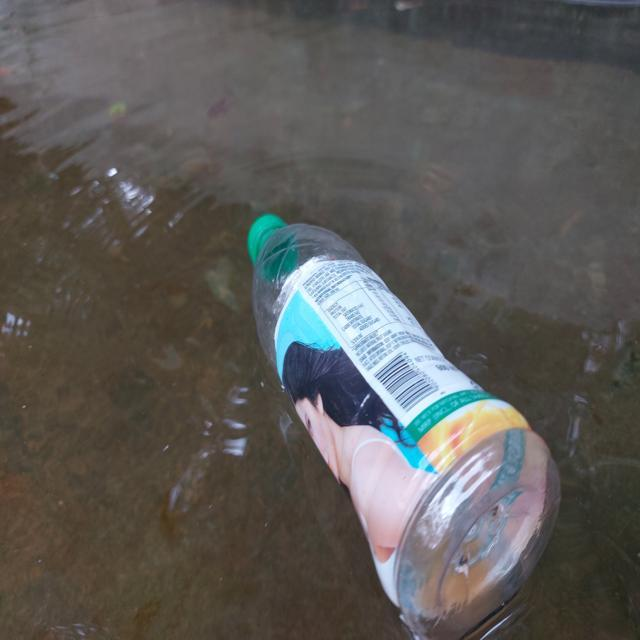waterbottle: (223, 174, 577, 633)
